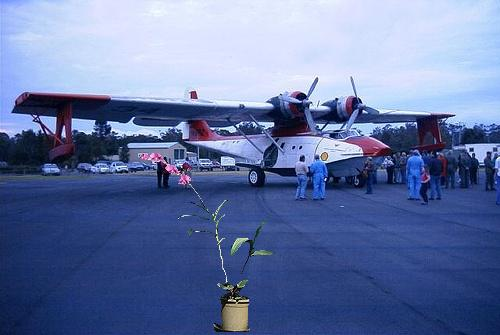tampered: (140, 154, 276, 332)
